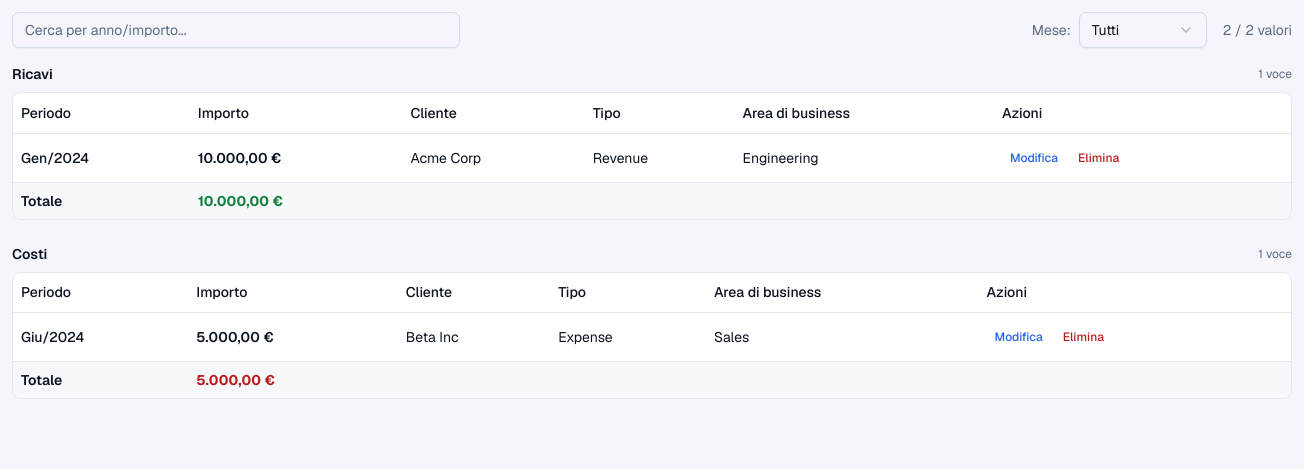
Test: FinancialValueTable › filters by month
The width and height of the screenshot is (1304, 469).
Click the dropdown named "filtra per mese": (1143, 30) [1079,12,1207,48]
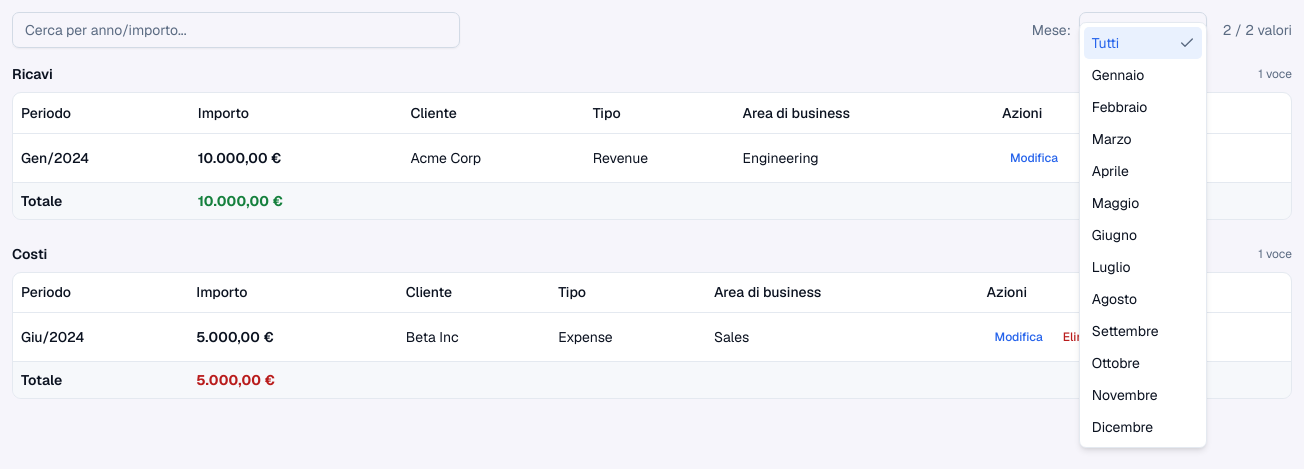
Click the option "Gennaio": (1118, 75) [1092,66,1144,84]
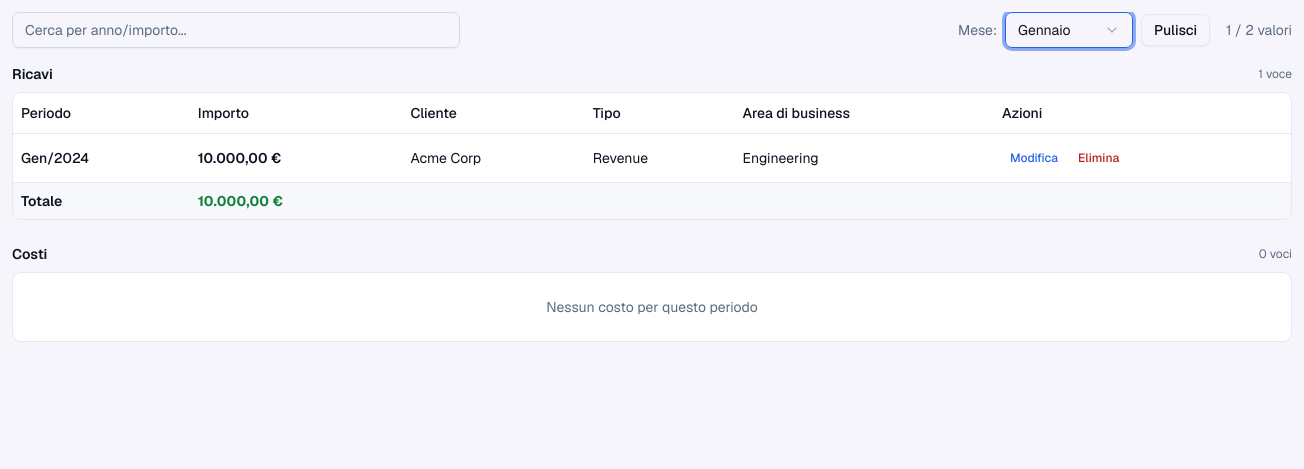
expect the text "Gen/2024" is shown: met, box [13,133,190,182]
expect the text "Giu/2024" is gone: met
